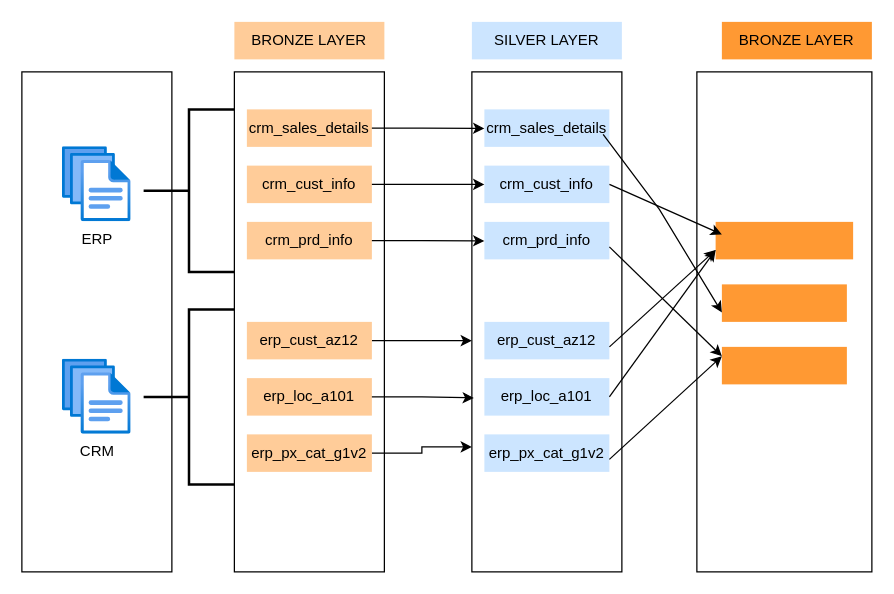
Image size: 894x594. Some labels were removed from this diagram. The centre of each missing label's shape, as x and y in pixels:
"dim_customer" belongs at [783,240].
"dim_product" belongs at [783,365].
"fact_sales" belongs at [783,302].
